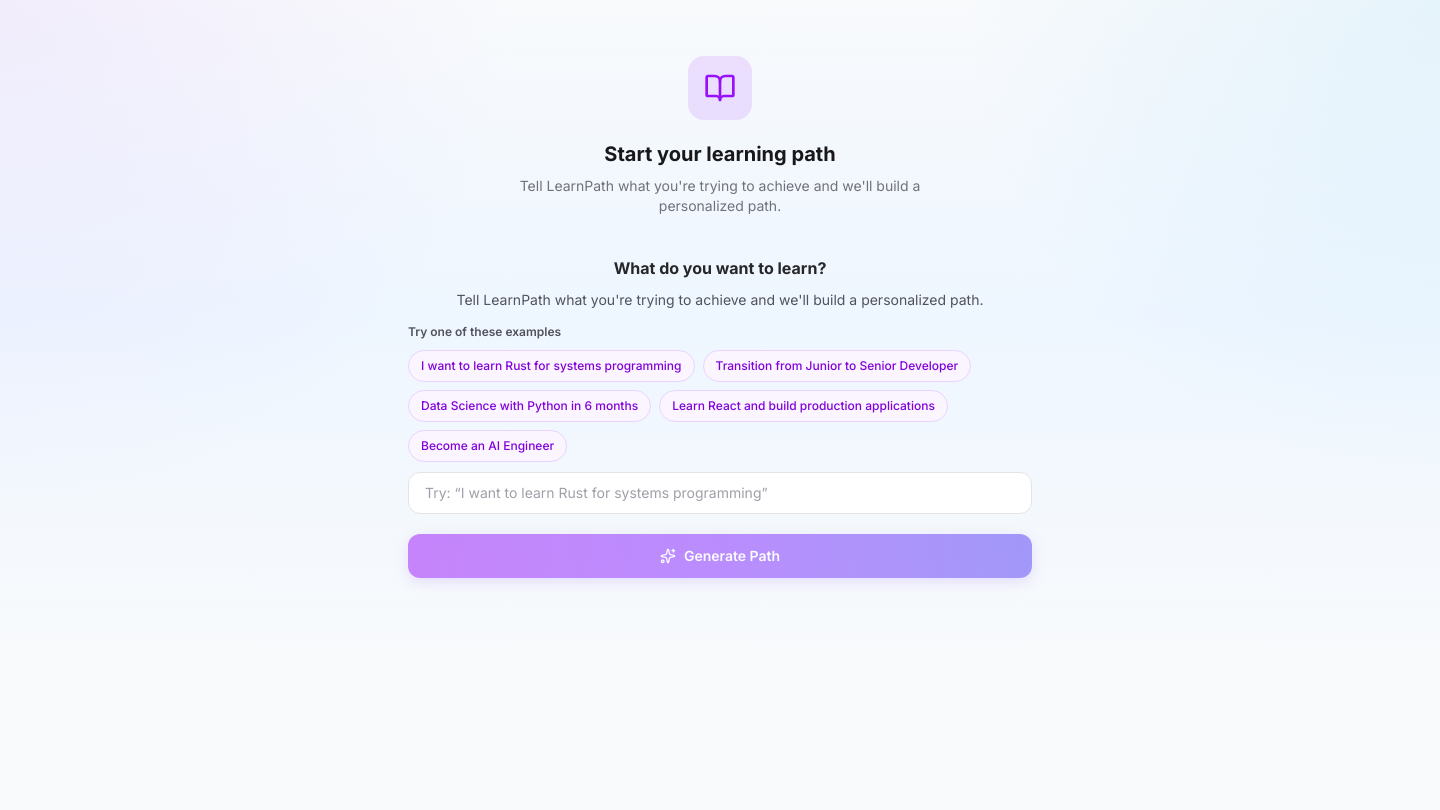
Test: NoRoadmapEmptyState › renders a labeled goal input and selectable examples
This screenshot has width=1440, height=810.
Expected: the heading "Start your learning path" is shown, [604,140,836,168]
Expected: the field labelled "What do you want to learn?" is shown, [408,472,1032,514]
Click the button "I want to learn Rust for systems programming" at x=551, y=366, box [408,350,694,382]
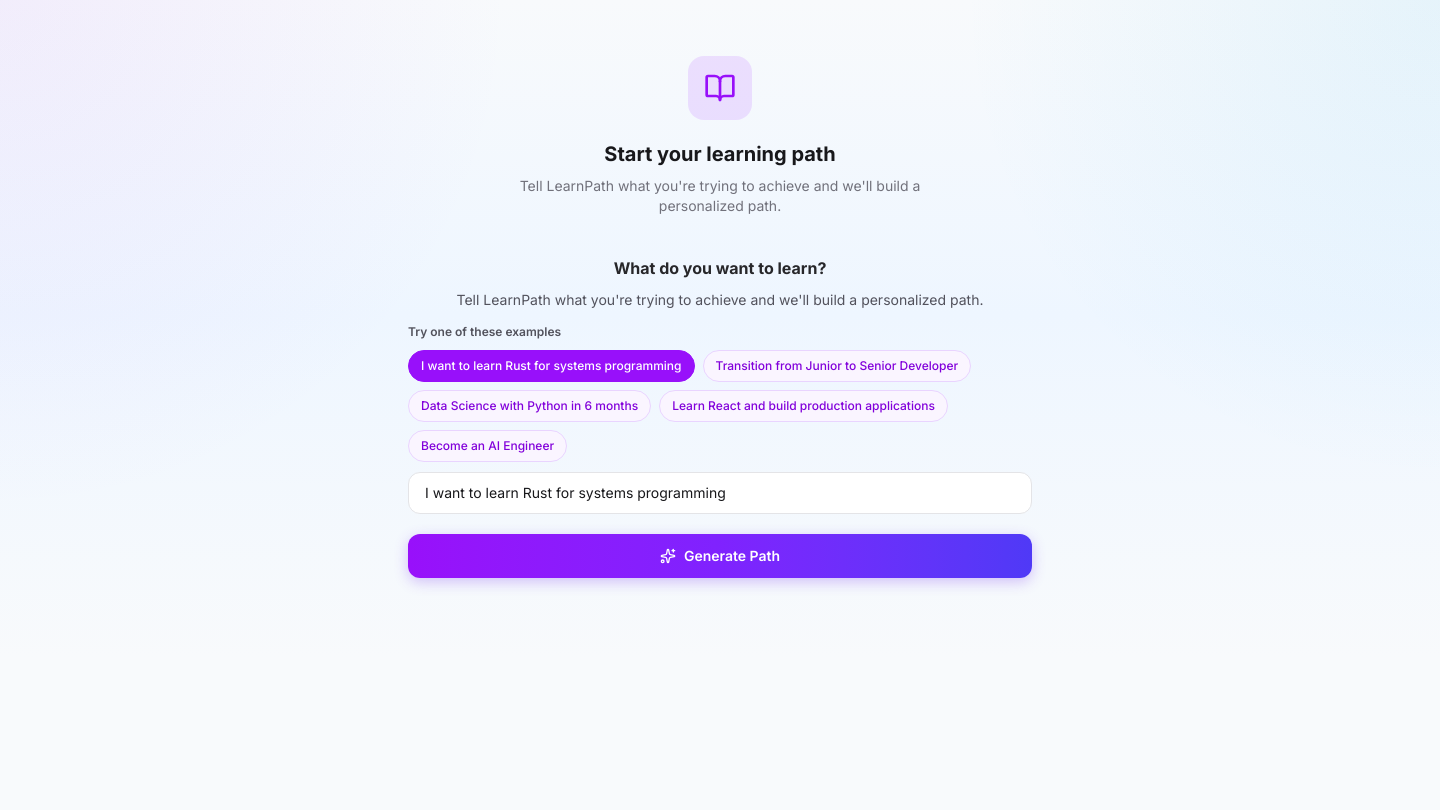
Expected: the field holds "I want to learn Rust for systems programming", [408,472,1032,514]
